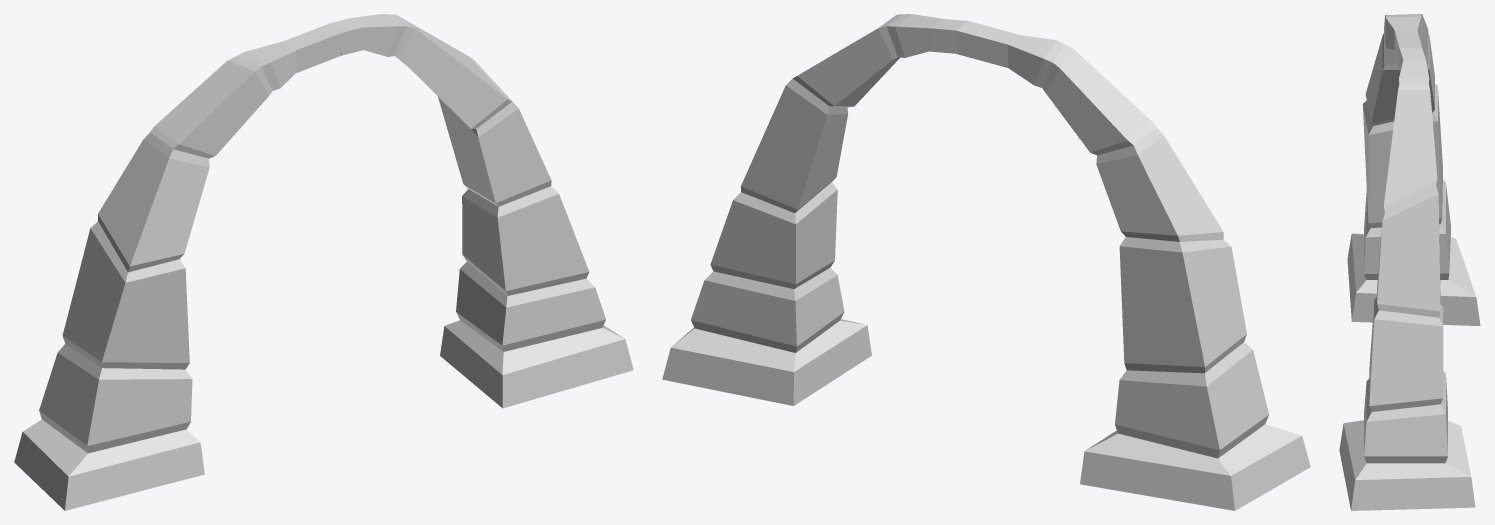
The model's file is arch.fbx.
3 views of the same model, side by side, from view 1: azimuth 30°, elevation 25°; view 2: azimuth 150°, elevation 25°; view 3: azimuth 270°, elevation 25° (orthographic). The views are drawn at different scales.
Visible parts, largest first — view 1: arch; view 2: arch; view 3: arch.
Part boxes in pixels (x1,y1,x2,y2): arch: (14, 14, 633, 510); arch: (662, 14, 1310, 510); arch: (1339, 14, 1480, 510).
Size of the model in its own units: 237 by 152 by 56.08.
Materials: 1 (1 with a texture image).
